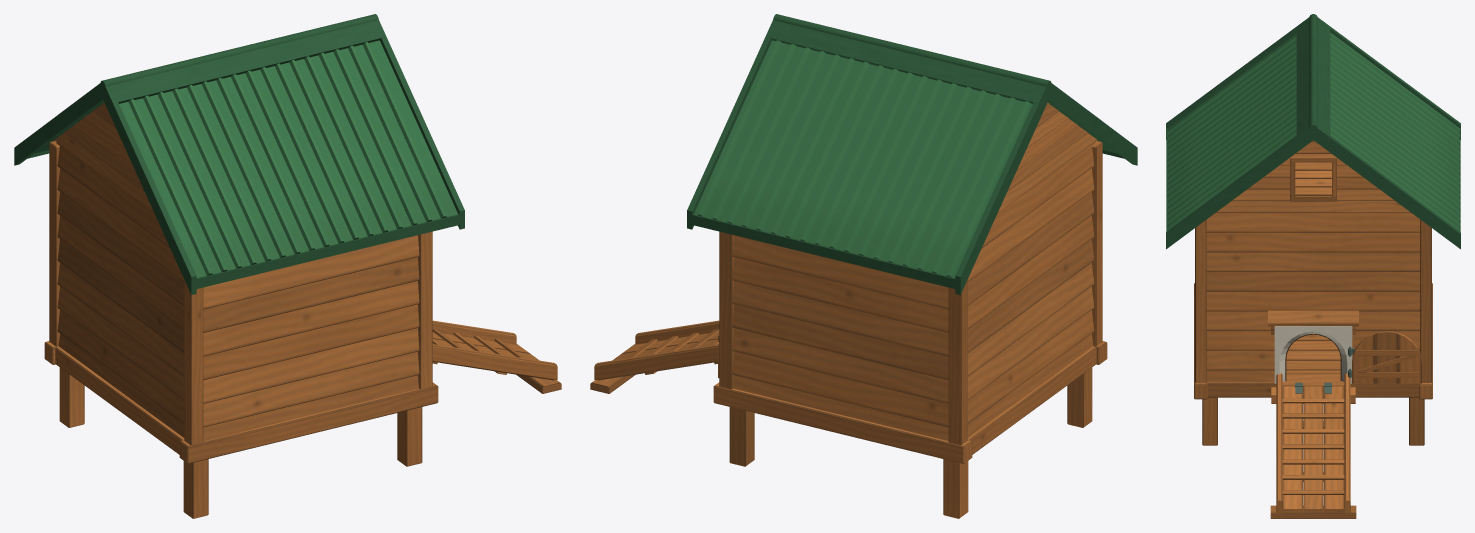
The model's file is coop.glb.
3 views of the same model, side by side, from view 1: azimuth 30°, elevation 25°; view 2: azimuth 150°, elevation 25°; view 3: azimuth 270°, elevation 25° (orthographic). The views are drawn at different scales.
Visible parts, largest first — view 1: CoopBody; view 2: CoopBody; view 3: CoopBody.
Boxes of the visible parts, bbox=[...] form: CoopBody: bbox=[14, 14, 561, 518]; CoopBody: bbox=[590, 14, 1137, 518]; CoopBody: bbox=[1166, 14, 1460, 518].
Bounding box in the file's own units: 3 × 2.61 × 2.12.
Materials: 1 (1 with a texture image).
